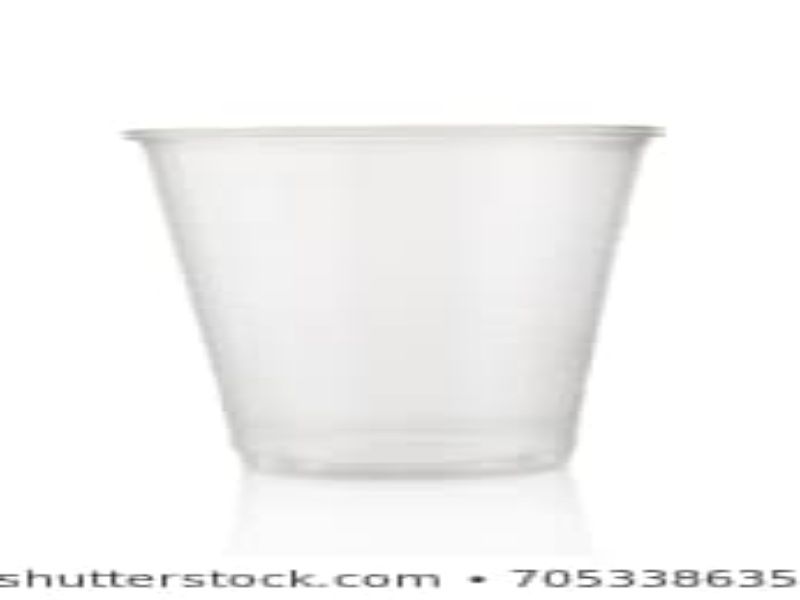plastic-cup: (116, 114, 674, 476)
